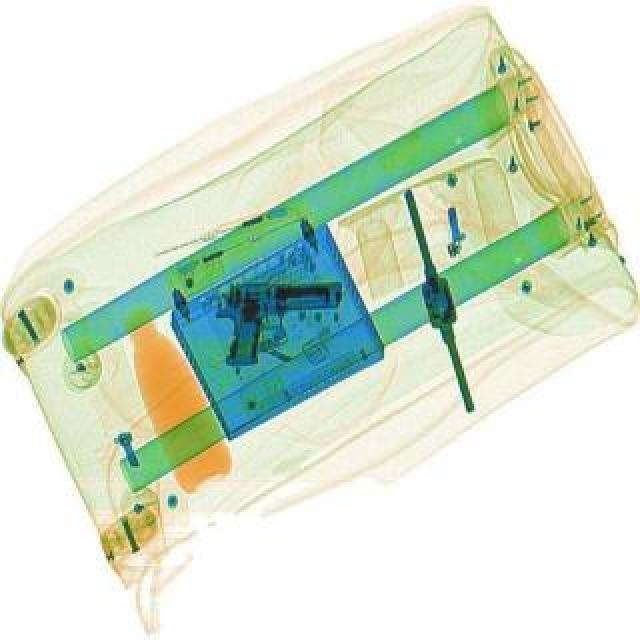gun: (214, 280, 344, 364)
